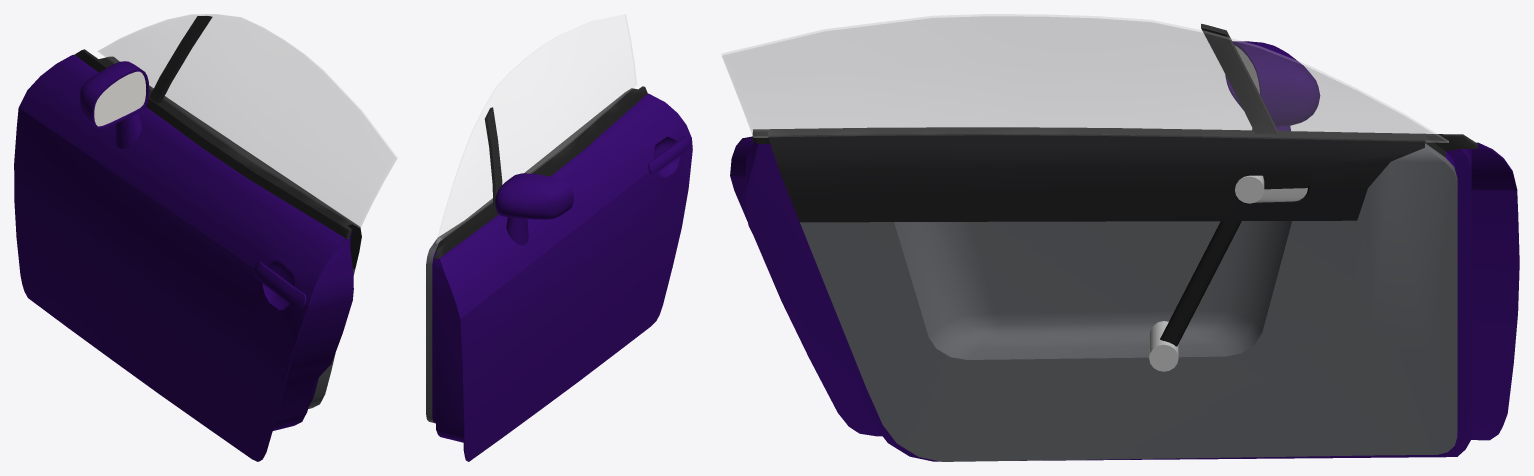
The model's file is doorl.glb.
3 views of the same model, side by side, from view 1: azimuth 30°, elevation 25°; view 2: azimuth 150°, elevation 25°; view 3: azimuth 270°, elevation 25° (orthographic). The views are drawn at different scales.
Visible parts, largest first — view 1: Door L, Door window L; view 2: Door L, Door window L; view 3: Door L, Door window L.
Part boxes in pixels (left/top/right/bottom): Door L: left=14, top=15, right=361, bottom=461; Door window L: left=97, top=14, right=397, bottom=227; Door L: left=426, top=86, right=692, bottom=461; Door window L: left=436, top=14, right=636, bottom=243; Door L: left=730, top=23, right=1519, bottom=461; Door window L: left=721, top=14, right=1448, bottom=142.
Size of the model in its own units: 0.3237 by 0.8716 by 1.29.
3 materials, 2 textured.
